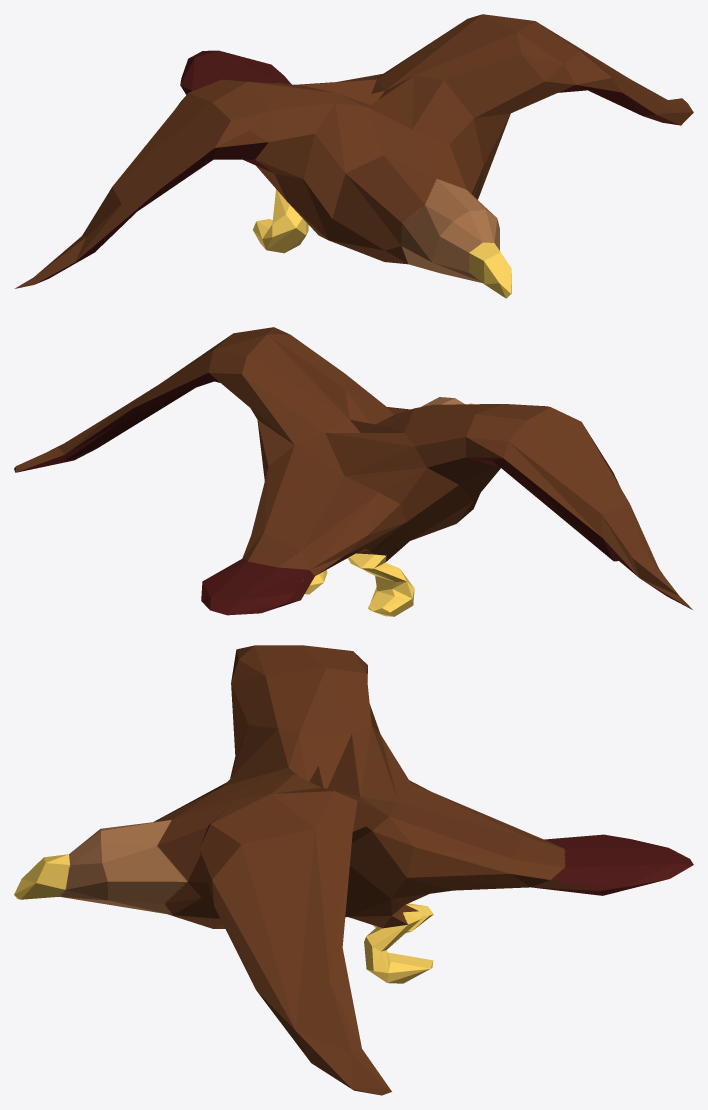
The model's file is aguili_000037.obj.
3 views of the same model, one above another, from view 1: azimuth 30°, elevation 25°; view 2: azimuth 150°, elevation 25°; view 3: azimuth 270°, elevation 25° (orthographic). The views are drawn at different scales.
Visible parts, largest first — view 1: aguila.001_Cube.001; view 2: aguila.001_Cube.001; view 3: aguila.001_Cube.001.
Part boxes in pixels (x1=…): aguila.001_Cube.001: x1=14, y1=14, x2=693, y2=298; aguila.001_Cube.001: x1=14, y1=327, x2=692, y2=616; aguila.001_Cube.001: x1=14, y1=645, x2=693, y2=1095.
Bounding box in the file's own units: 75.39 × 21.84 × 56.5.
1 material, 1 textured.
